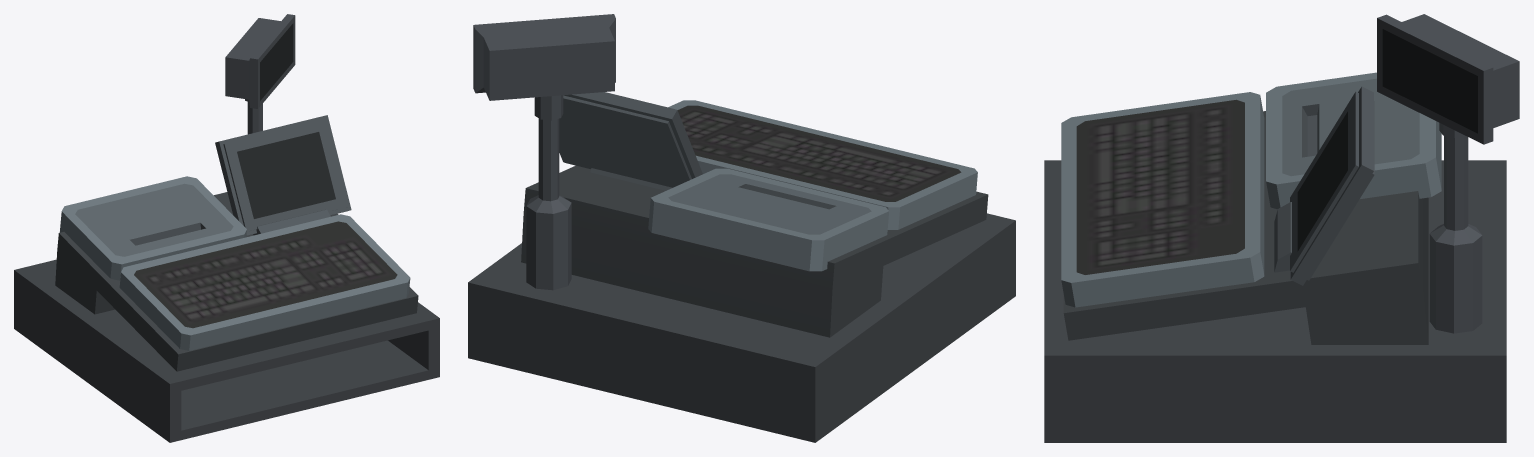
Rendered from SM_Prop_Shop_Cash_Register_02.obj.
3 renders of one model, left to right at view 1: azimuth 30°, elevation 25°; view 2: azimuth 150°, elevation 25°; view 3: azimuth 270°, elevation 25°, orthographic. The views are drawn at different scales.
Parts seen in each view (by area): view 1: SM_Prop_Shop_Cash_Register_02_0; view 2: SM_Prop_Shop_Cash_Register_02_0; view 3: SM_Prop_Shop_Cash_Register_02_0.
Part boxes in pixels (bbox=[...]): SM_Prop_Shop_Cash_Register_02_0: bbox=[14, 14, 439, 442]; SM_Prop_Shop_Cash_Register_02_0: bbox=[468, 14, 1015, 442]; SM_Prop_Shop_Cash_Register_02_0: bbox=[1044, 14, 1519, 442].
Bounding box in the file's own units: 0.6598 × 0.5821 × 0.6694.
Materials: 1 (1 with a texture image).
